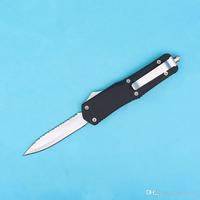knife: (19, 50, 186, 160)
